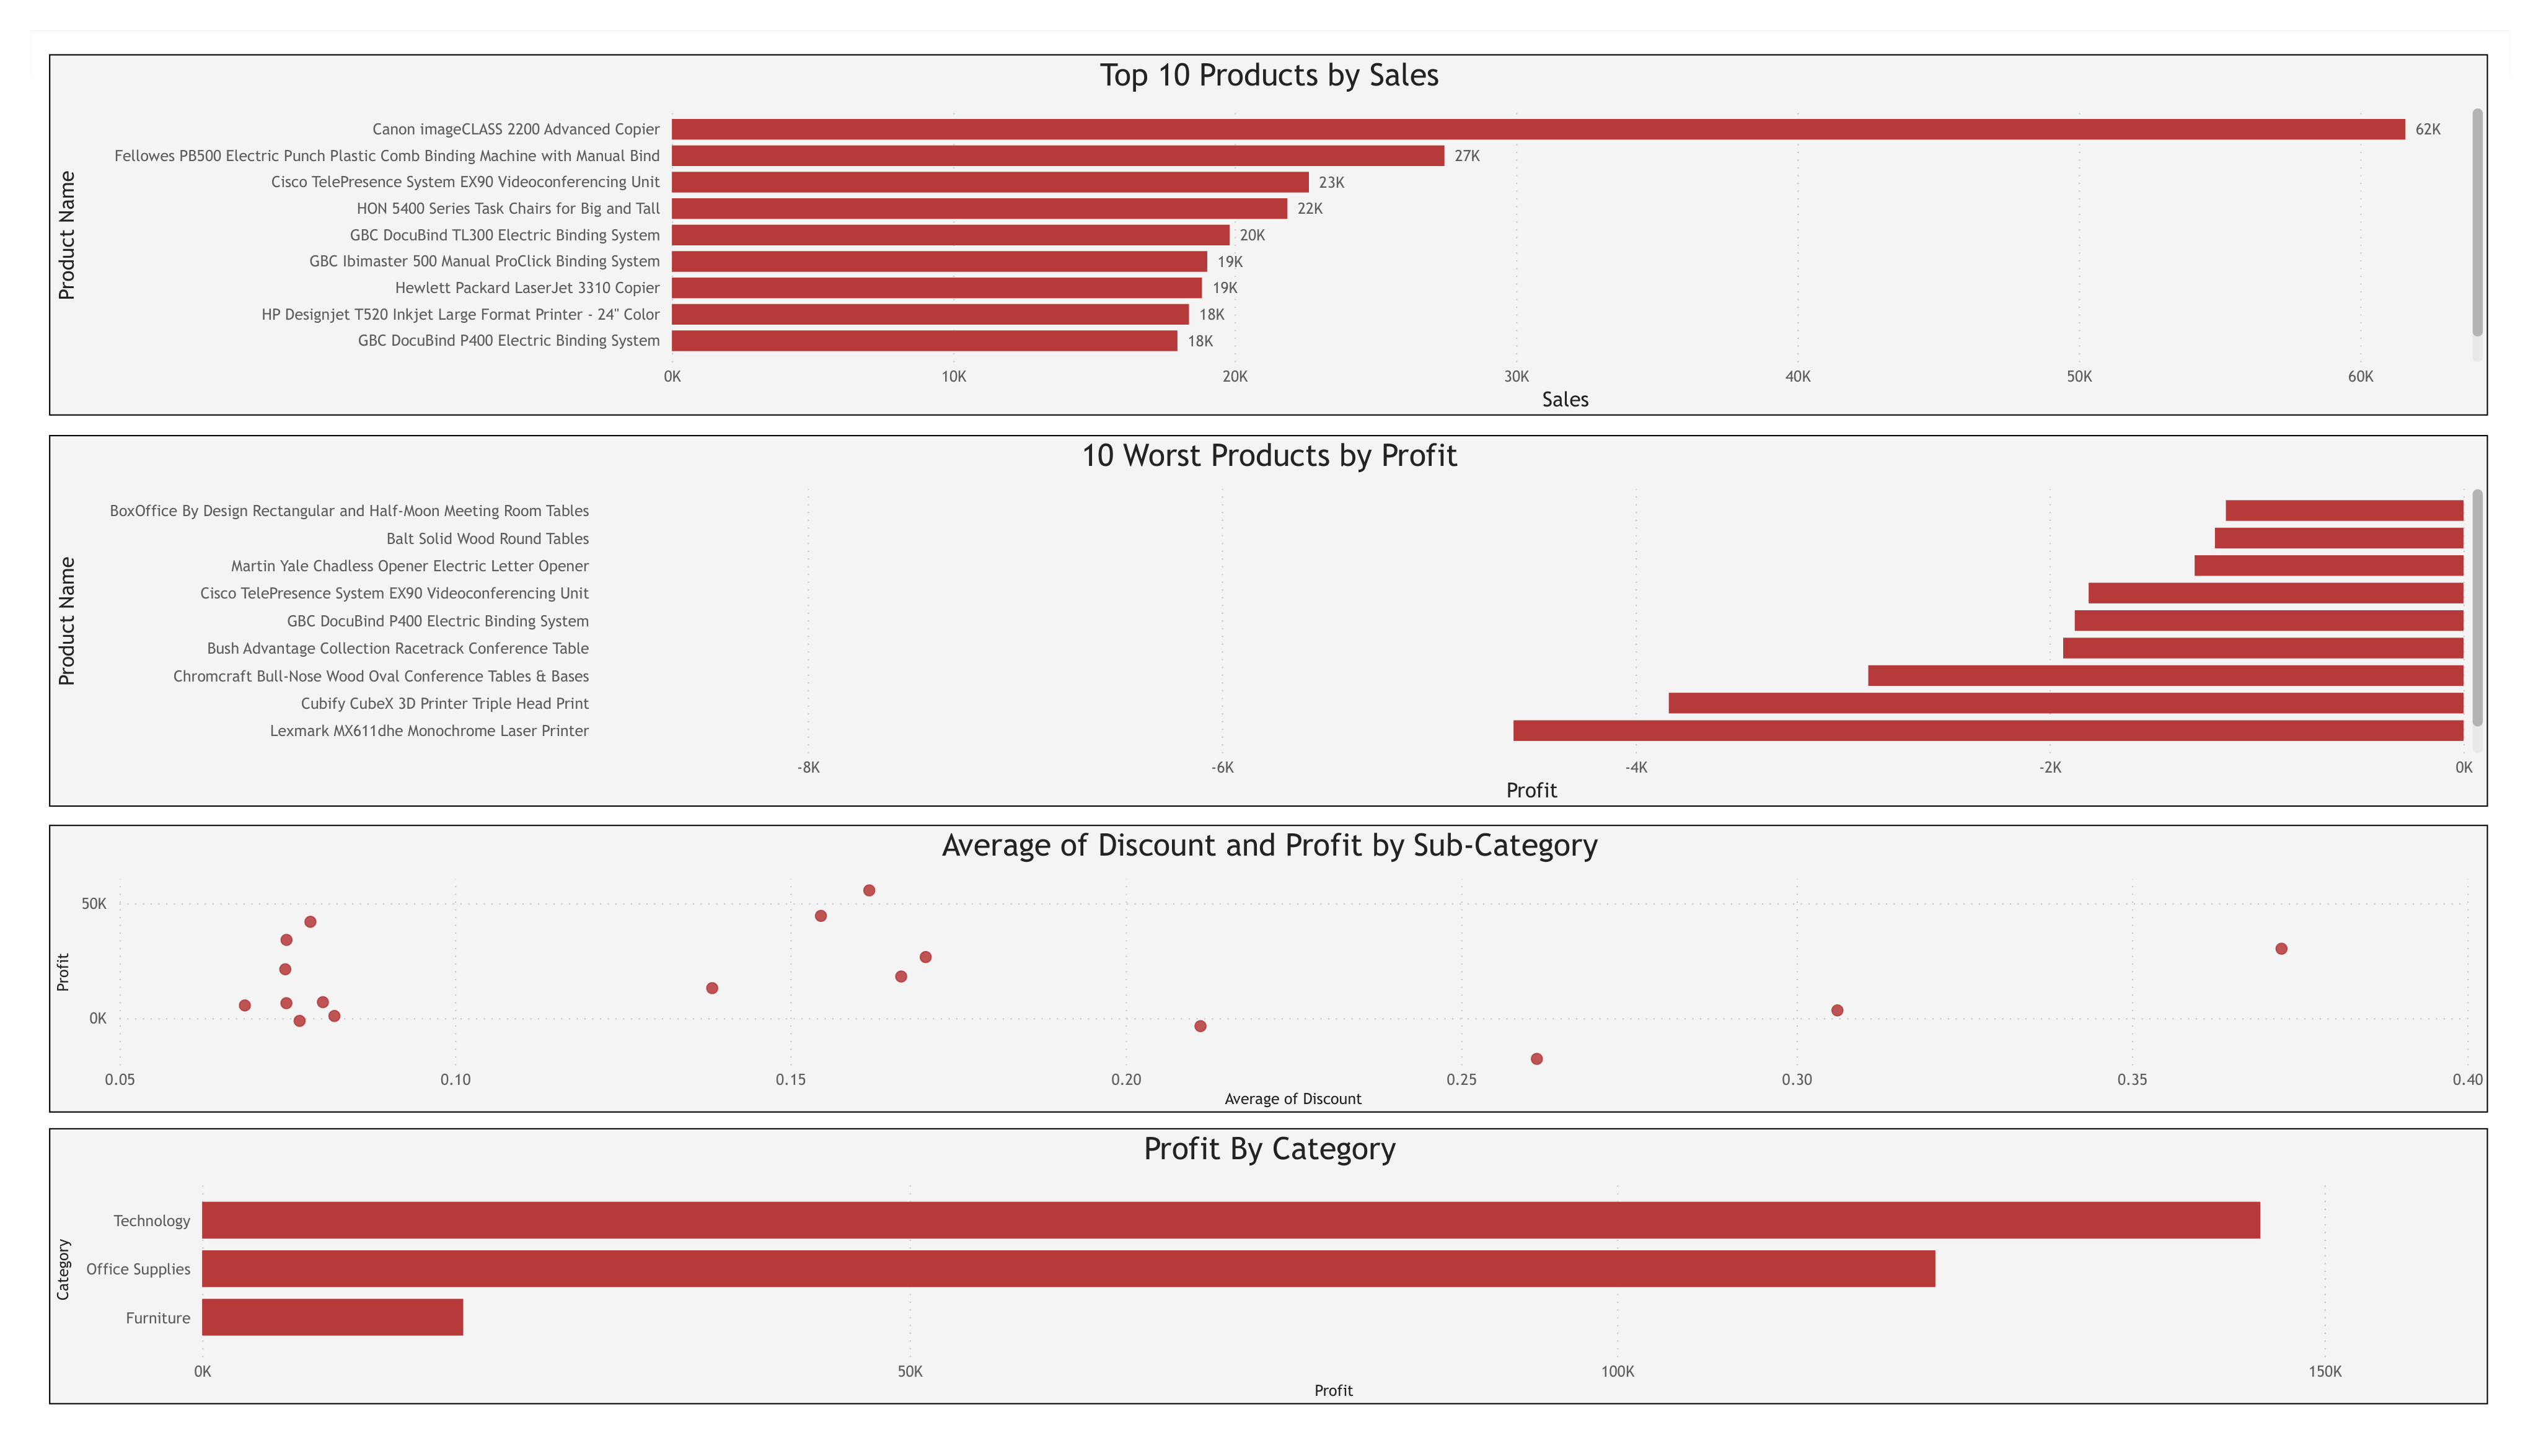

What the dashboard file says about the page in this screenshot:
{"tool":"powerbi","page":{"name":"Product Performance","canvas":[1920,1080],"ordinal":1},"visuals":[{"type":"clusteredBarChart","title":"Top 10 Products by Sales","fields":{"Category":["superstore_cleaned.Product Name"],"Y":["Sum(superstore_cleaned.Sales)"]},"box":[14.5,18.1,1888.6,280.4],"z":0},{"type":"barChart","title":"10 Worst Products by Profit","fields":{"Category":["superstore_cleaned.Product Name"],"Y":["Sum(superstore_cleaned.Profit)"]},"box":[14.5,313,1888.6,287.6],"z":1000},{"type":"scatterChart","fields":{"X":["Avg(superstore_cleaned.Discount)"],"Y":["Sum(superstore_cleaned.Profit)"],"Category":["superstore_cleaned.Sub-Category"]},"box":[14.5,615.1,1888.6,222.5],"z":2000},{"type":"barChart","title":"Profit By Category","fields":{"Category":["superstore_cleaned.Category"],"Y":["Sum(superstore_cleaned.Profit)"]},"box":[14.5,850.3,1888.6,213.5],"z":3000}]}

Visuals, with their boxes on the page's 1920x1080 design canvas (x1, y1, x2, y2). These are canvas units, not pixel positions in the 2541x1456 screenshot, which may show the page scaled, cropped or inside an application window:
"Top 10 Products by Sales" clusteredBarChart: [14, 18, 1903, 298]
"10 Worst Products by Profit" barChart: [14, 313, 1903, 601]
scatterChart - Avg(superstore_cleaned.Discount) x Sum(superstore_cleaned.Profit): [14, 615, 1903, 838]
"Profit By Category" barChart: [14, 850, 1903, 1064]
